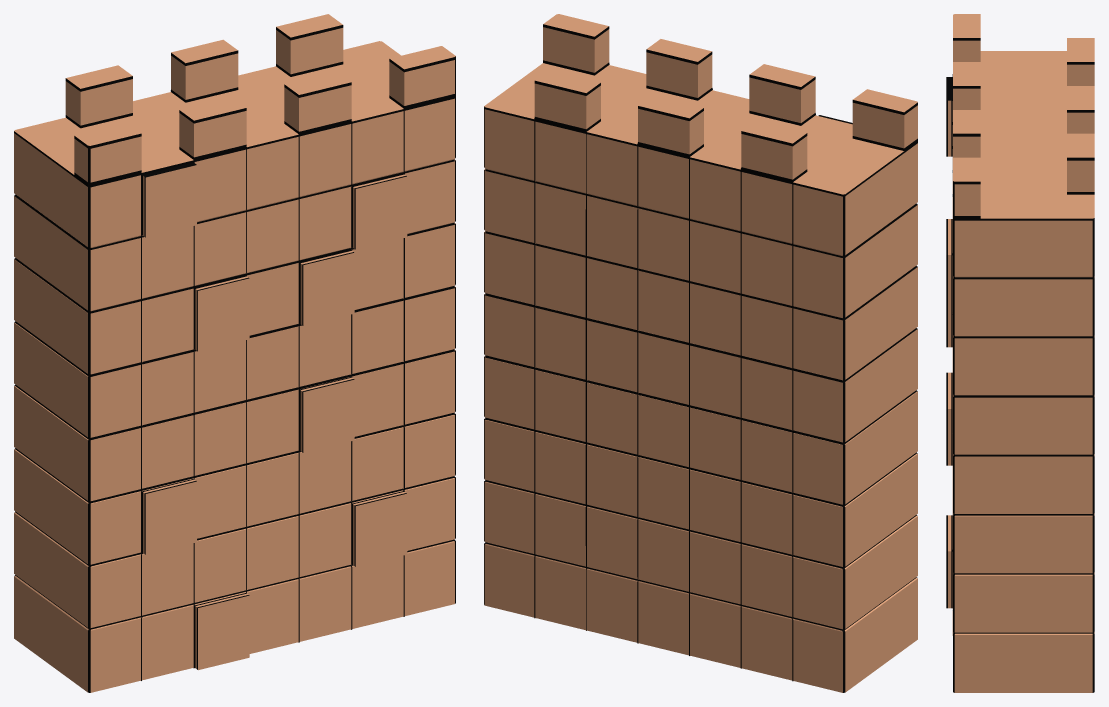
Rendered from CastleWalls01.fbx.
The picture shows the model from 3 angles, left to right: view 1: azimuth 30°, elevation 25°; view 2: azimuth 150°, elevation 25°; view 3: azimuth 270°, elevation 25°; orthographic projection. The views are drawn at different scales.
Parts seen in each view (by area): view 1: Cube.074; view 2: Cube.074; view 3: Cube.074.
Boxes of the visible parts, bbox=[...] form: Cube.074: bbox=[14, 14, 455, 692]; Cube.074: bbox=[484, 14, 917, 692]; Cube.074: bbox=[946, 14, 1094, 692].
Bounding box in the file's own units: 561 × 798 × 210.
